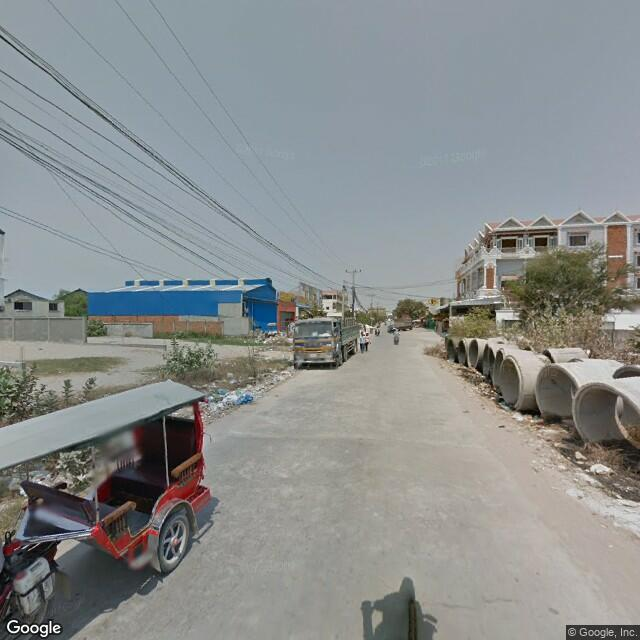litter: (211, 389, 251, 404), (559, 450, 587, 470), (588, 463, 611, 479), (512, 415, 524, 423)
